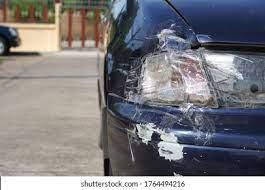Headlight-Damage: (108, 27, 264, 119)
front-bumper-dent: (88, 92, 264, 179)
